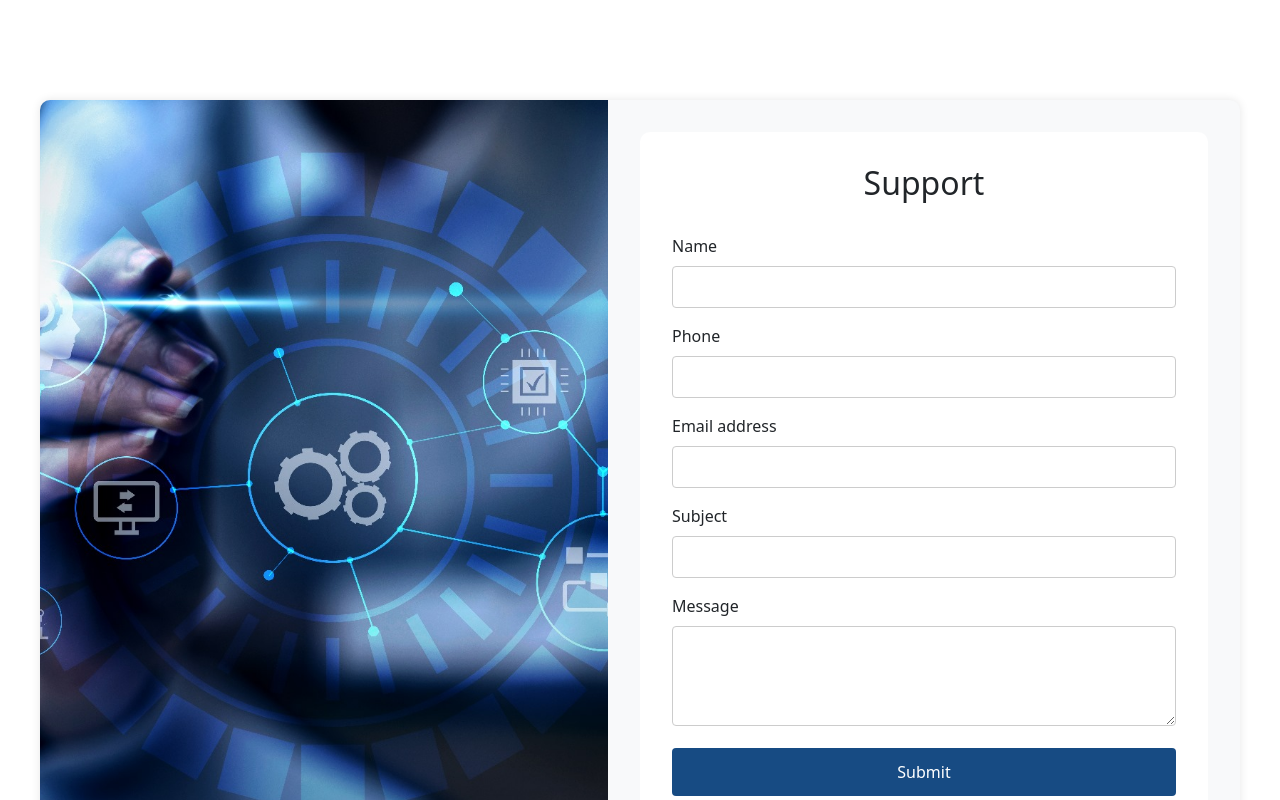
it: SupportPage Component › submits the form successfully
// Fill out the form
Type "John Doe" into the field labelled "Name" at (924, 287), box left=672, top=266, right=1176, bottom=308
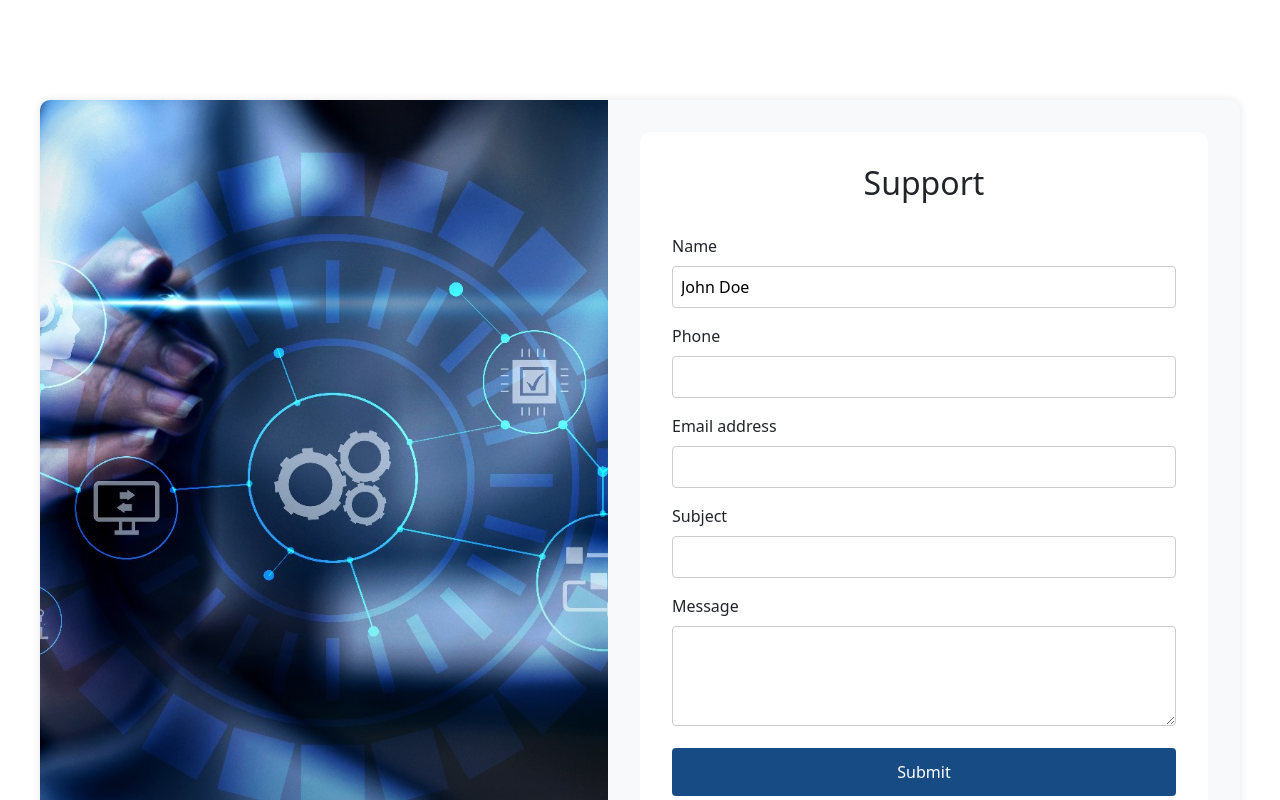
Type "1234567890" into the field labelled "Phone" at (924, 377), box left=672, top=356, right=1176, bottom=398
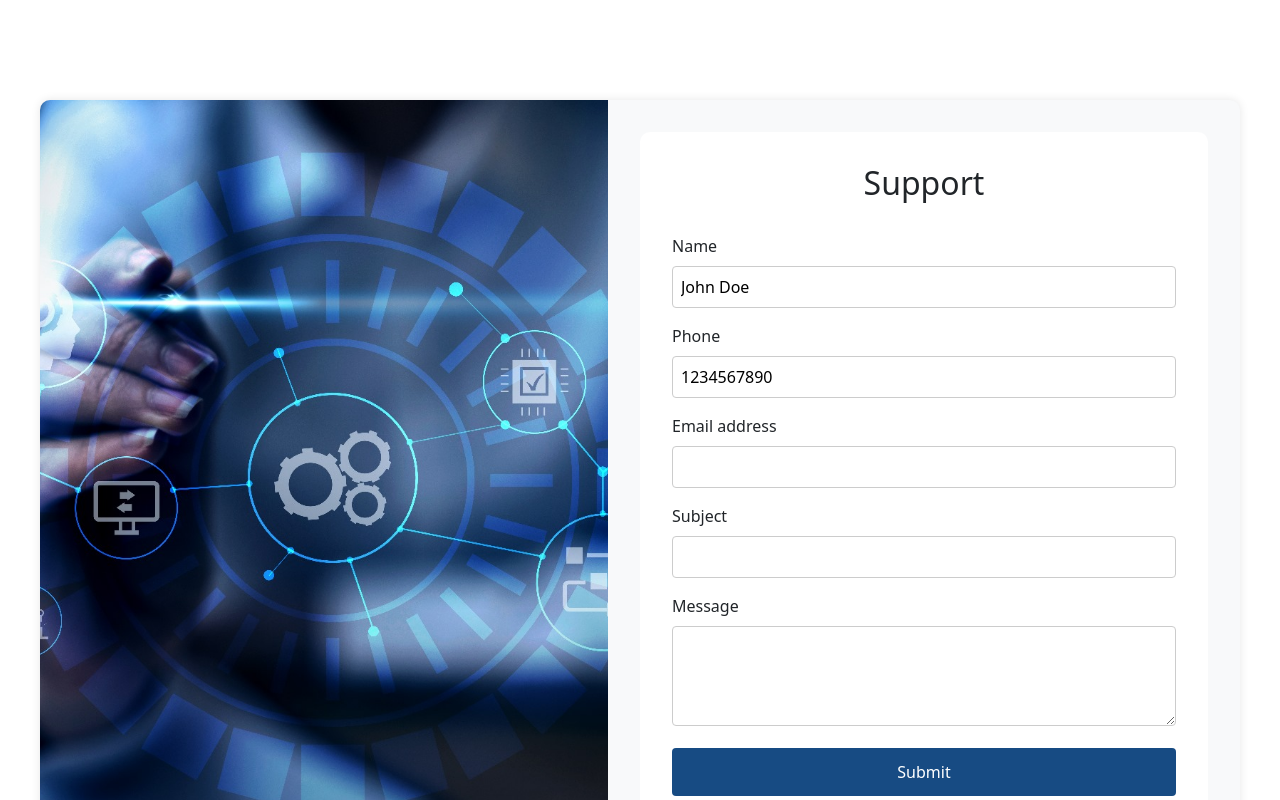
Type "john.doe@example.com" into the field labelled "Email address" at (924, 467), box left=672, top=446, right=1176, bottom=488
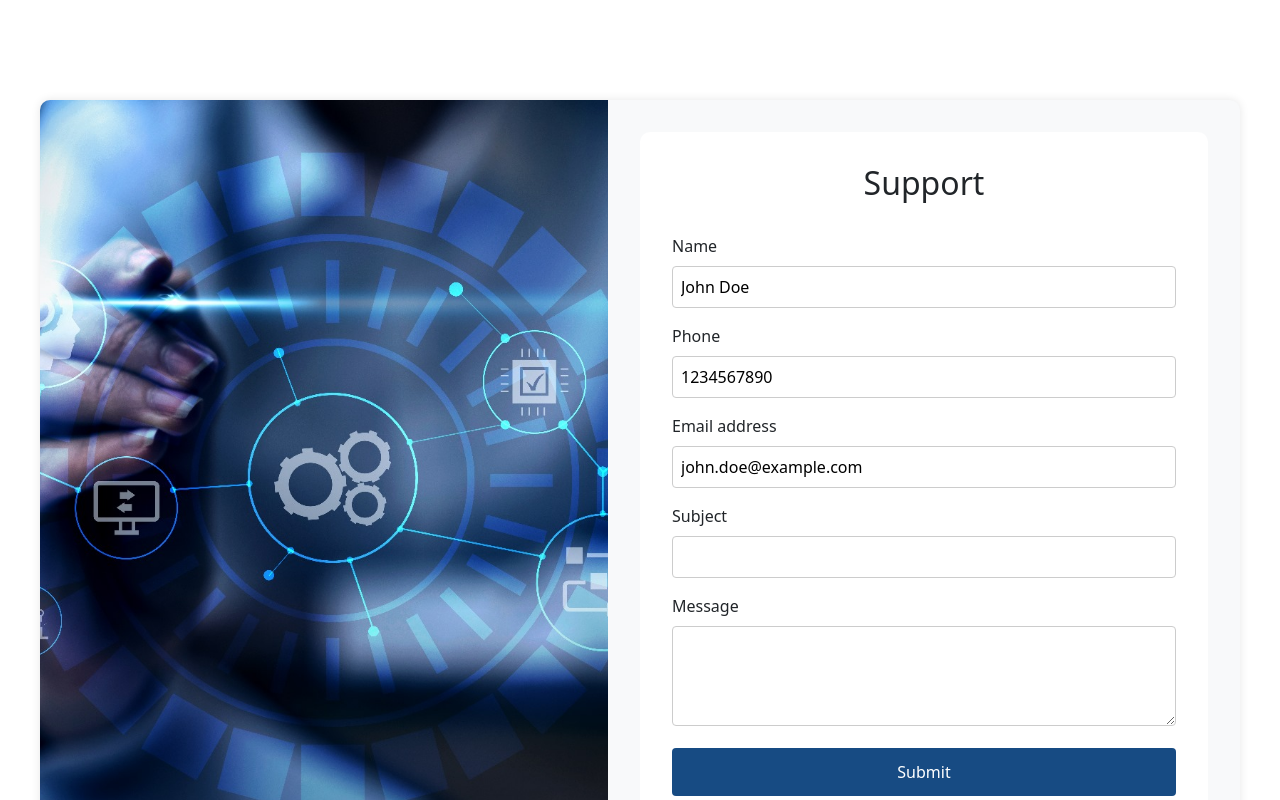
Type "Test Subject" into the field labelled "Subject" at (924, 557), box left=672, top=536, right=1176, bottom=578
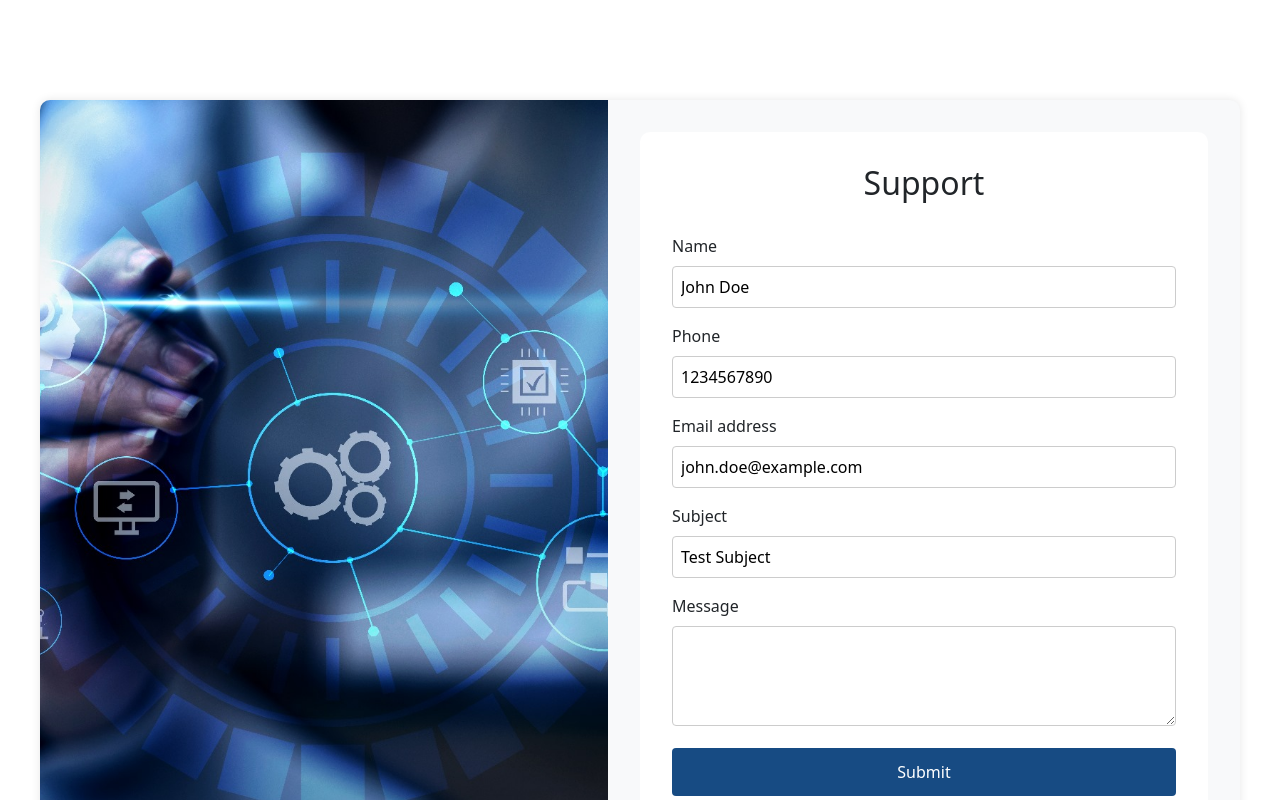
Type "Test Message" into the text box labelled "Message" at (924, 676), box left=672, top=626, right=1176, bottom=726
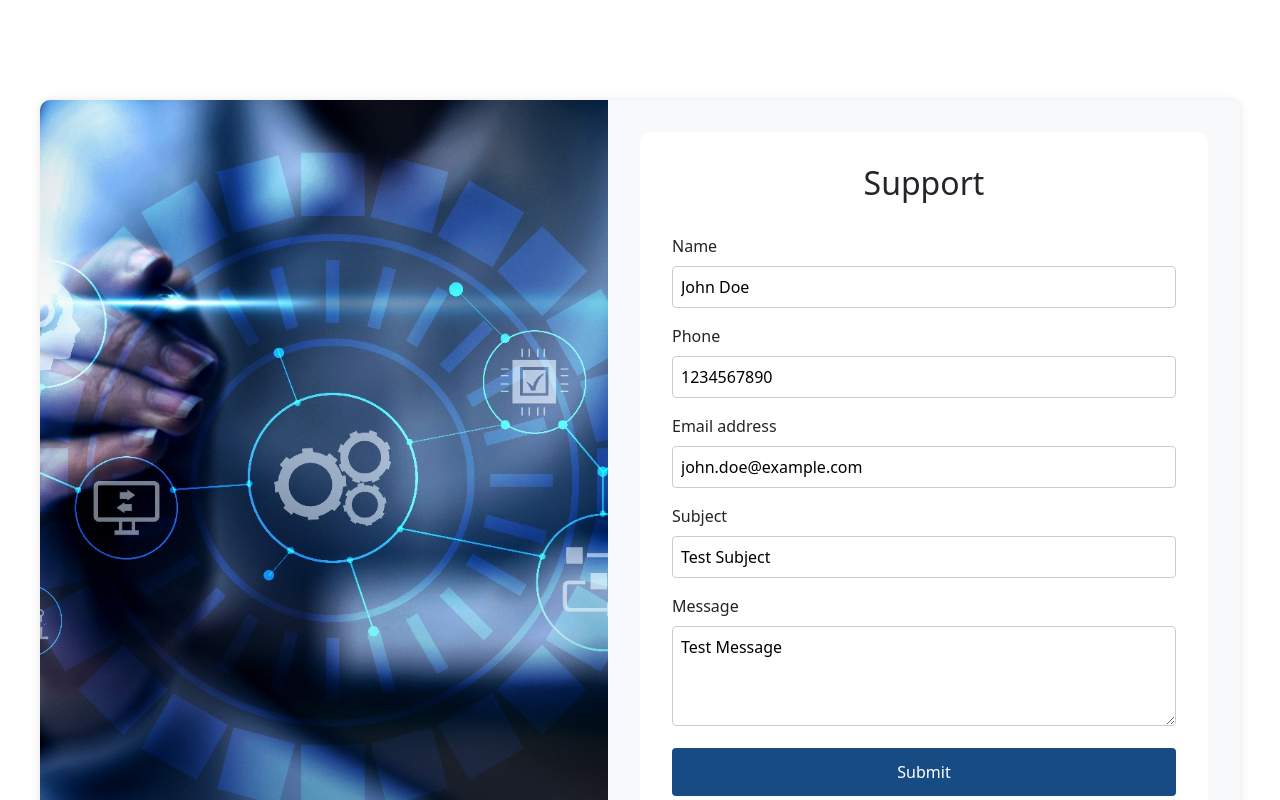
// Submit the form
Click the button "Submit" at (924, 772), box left=672, top=748, right=1176, bottom=796
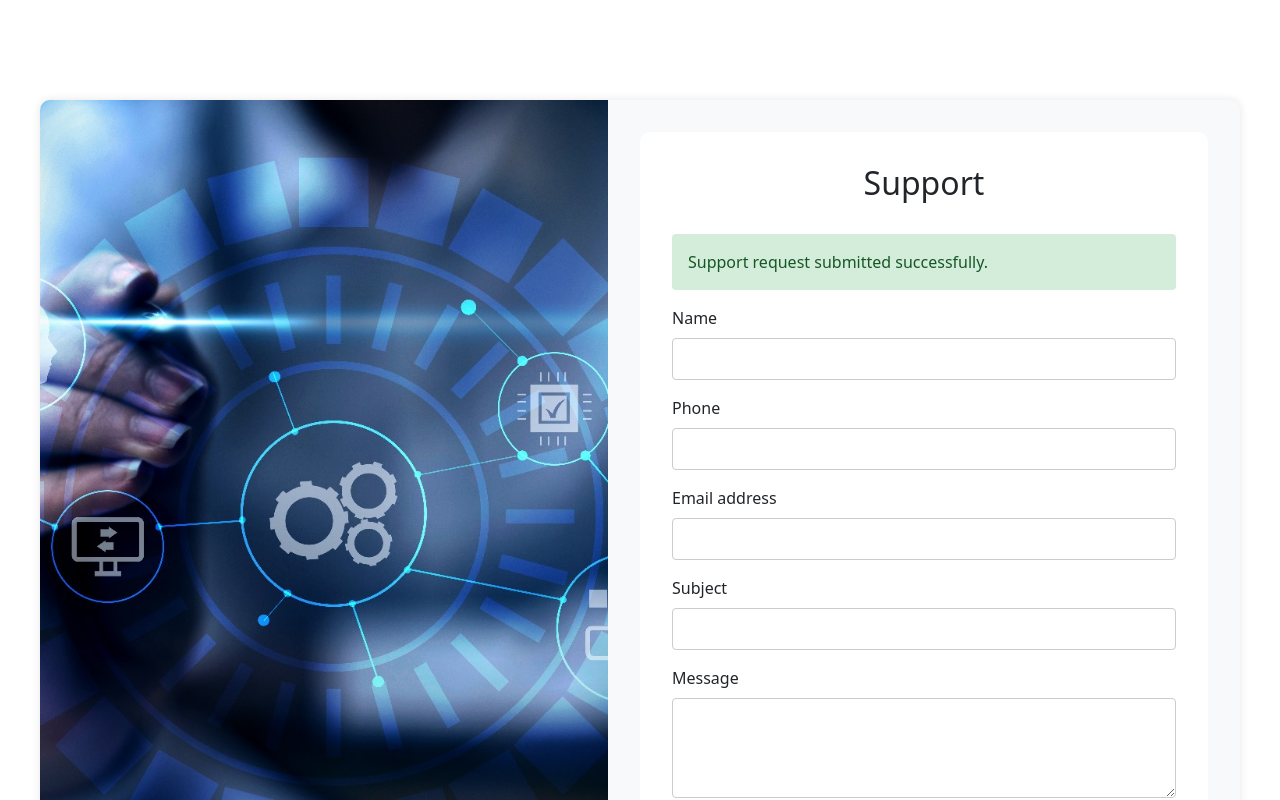
Expected: the text "Support request submitted successfully." is shown, left=672, top=234, right=1176, bottom=290
Expected: the field labelled "Name" is empty, left=672, top=338, right=1176, bottom=380
Expected: the field labelled "Phone" is empty, left=672, top=428, right=1176, bottom=470
